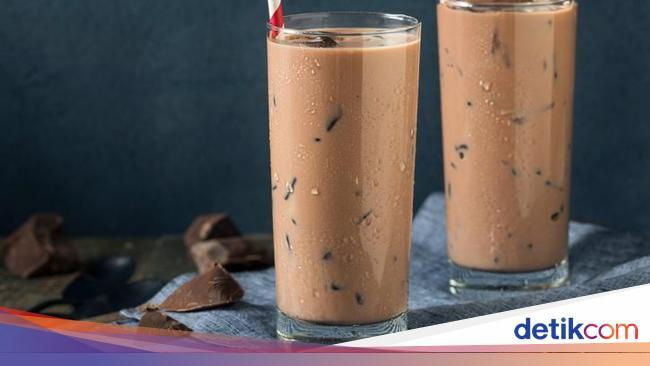produk_susu: (283, 32, 399, 327), (462, 0, 559, 284)
